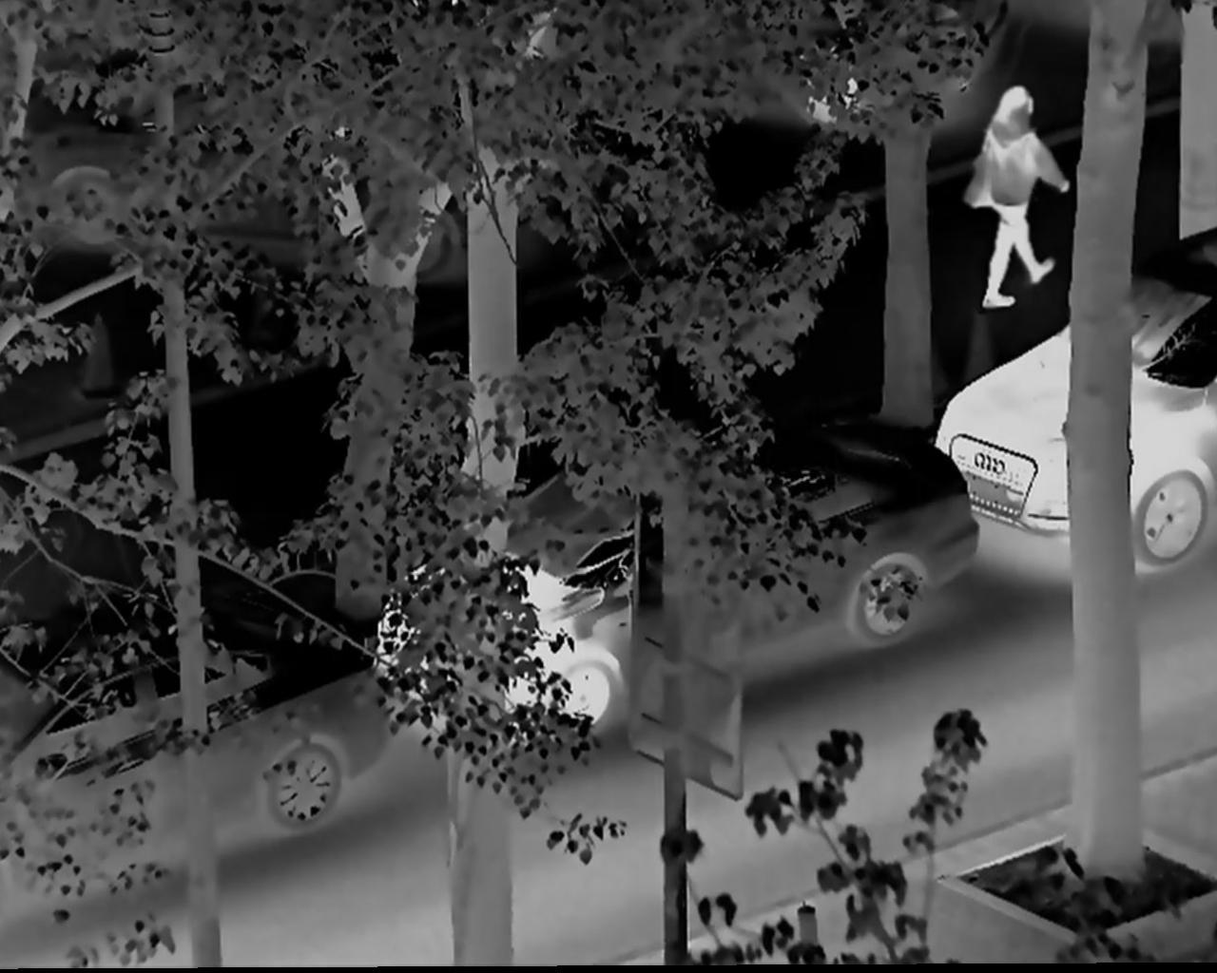person: (963, 62, 1072, 338)
